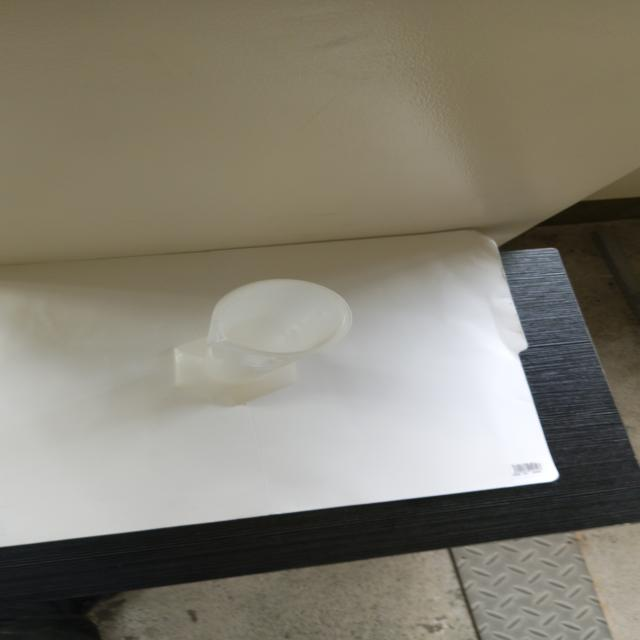graduated_cylinder: (165, 274, 359, 412)
